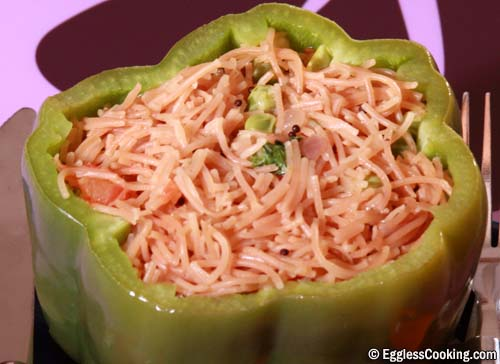capsicum: (22, 4, 487, 363)
